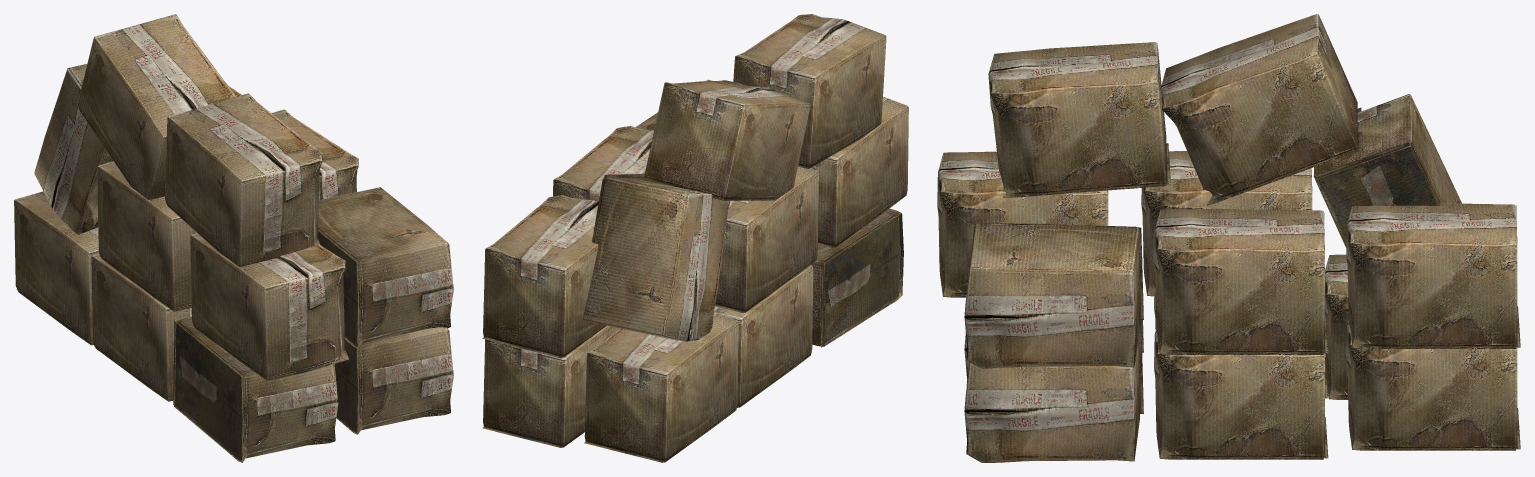
File: newzihezhi2.FBX
3 renders of one model, left to right at view 1: azimuth 30°, elevation 25°; view 2: azimuth 150°, elevation 25°; view 3: azimuth 270°, elevation 25°, orthographic. The views are drawn at different scales.
Parts seen in each view (by area): view 1: 007, 004, 008, 012, 001, 009, 003, 005, 002, 006, 013; view 2: 006, 005, 008, 014, 007, 003, 011, 004, 001, 002, 013; view 3: 008, 007, 013, 012, 014, 010, 011, 009, 006, 004, 003, 005.
Boxes of the visible parts, box(x1,y1,x2,y2) form: 007: box(165, 93, 322, 267); 004: box(190, 233, 348, 380); 008: box(77, 14, 236, 199); 012: box(318, 187, 453, 348); 001: box(173, 316, 338, 462); 009: box(334, 278, 453, 434); 003: box(97, 161, 196, 311); 005: box(14, 191, 98, 345); 002: box(91, 254, 191, 401); 006: box(34, 64, 113, 234); 013: box(271, 109, 358, 199); 006: box(582, 174, 730, 341); 005: box(584, 312, 738, 462); 008: box(644, 80, 810, 200); 014: box(482, 195, 606, 358); 007: box(733, 14, 886, 168); 003: box(715, 166, 818, 312); 011: box(482, 325, 619, 447); 004: box(811, 96, 908, 247); 001: box(811, 208, 903, 347); 002: box(714, 265, 813, 407); 013: box(553, 126, 653, 201); 008: box(1160, 14, 1362, 205); 007: box(988, 42, 1170, 197); 013: box(1154, 208, 1328, 354); 012: box(964, 222, 1143, 368); 014: box(1346, 203, 1520, 348); 010: box(1154, 328, 1328, 459); 011: box(1346, 320, 1520, 450); 009: box(964, 318, 1143, 462); 006: box(1313, 94, 1461, 248); 004: box(937, 151, 1108, 297); 003: box(1141, 151, 1312, 296); 005: box(1325, 254, 1348, 399).
Size of the model in its own units: 132 by 192 by 287.
